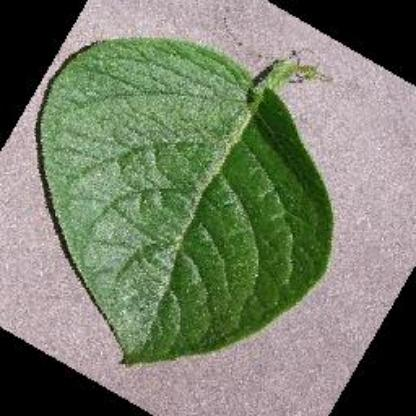Healthy-plant: (16, 19, 363, 390)
